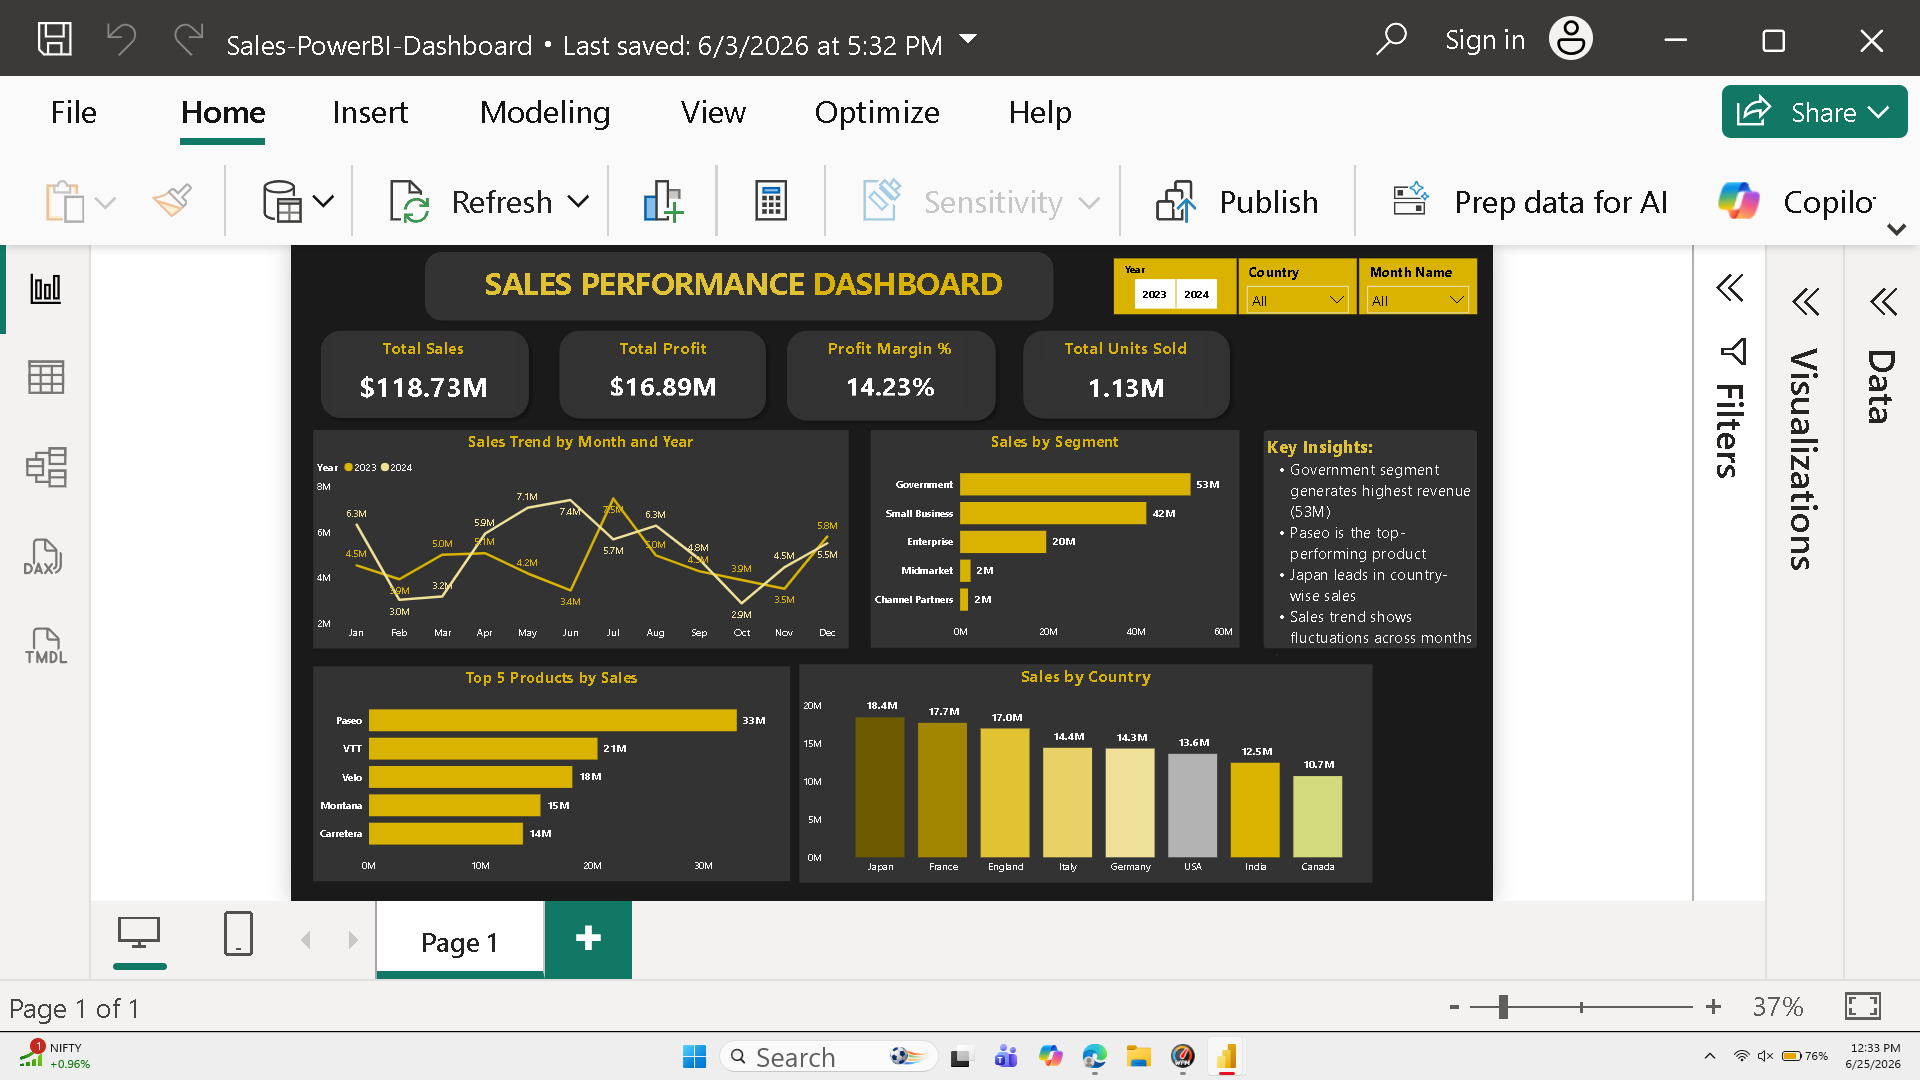

The dashboard page shown, as its layout file describes it:
{"tool":"powerbi","page":{"name":"Page 1","canvas":[1466,800],"ordinal":0},"visuals":[{"type":"shape","box":[595.2,95.6,273,128.3],"z":0},{"type":"shape","box":[27.2,95.2,272,125.1],"z":1000},{"type":"shape","box":[319.4,95.6,270.3,125.6],"z":2000},{"type":"shape","box":[884.6,95.6,270.3,125.6],"z":3000},{"type":"cardVisual","title":"Total Units Sold","fields":{"Data":["Sum(Sales Data xlsx - Sales Data.Units Sold)"]},"box":[922.1,111.5,193.1,92.5],"z":4000},{"type":"cardVisual","title":"Profit Margin %","fields":{"Data":["Sales Data xlsx - Sales Data.Profit Margin %"]},"box":[639.2,111.5,182.2,89.8],"z":5000},{"type":"cardVisual","title":"Total Profit","fields":{"Data":["Sum(Sales Data xlsx - Sales Data.Profit)"]},"box":[356.3,111.5,195.8,89.8],"z":6000},{"type":"lineChart","title":"Sales Trend by Month and Year","fields":{"Y":["Sum(Sales Data xlsx - Sales Data.Sales)"],"Series":["Sales Data xlsx - Sales Data.Year"],"Category":["Sales Data xlsx - Sales Data.Month Name"]},"box":[27.2,225.8,652.8,266.6],"z":7000},{"type":"cardVisual","title":"Total Sales","fields":{"Data":["Sum(Sales Data xlsx - Sales Data.Sales)"]},"box":[51.7,111.5,220.3,92.5],"z":8000},{"type":"barChart","title":"Sales by Segment","fields":{"Category":["Sales Data xlsx - Sales Data.Segment"],"Y":["Sum(Sales Data xlsx - Sales Data.Sales)"]},"box":[706.8,226.3,449.8,265.4],"z":9000},{"type":"barChart","title":"Top 5 Products by Sales","fields":{"Category":["Sales Data xlsx - Sales Data.Product_Name"],"Y":["Sum(Sales Data xlsx - Sales Data.Sales)"]},"box":[27.3,513.3,581.5,262.1],"z":10000},{"type":"columnChart","title":"Sales by Country","fields":{"Category":["Sales Data xlsx - Sales Data.Country"],"Y":["Sum(Sales Data xlsx - Sales Data.Sales)"]},"box":[620.2,511.4,699.1,266.6],"z":11000},{"type":"slicer","title":"Sales by Segment","fields":{"Values":["Sales Data xlsx - Sales Data.Month Name"]},"box":[1302.9,16.3,144.2,68],"z":12000},{"type":"slicer","title":"Sales by Segment","fields":{"Values":["Sales Data xlsx - Sales Data.Year"]},"box":[1003.7,16.3,149.6,68],"z":13000},{"type":"shape","box":[163.2,8.2,767.1,84.3],"z":14000},{"type":"textbox","box":[201.3,16.3,701.8,68],"z":15000},{"type":"slicer","title":"Sales by Segment","fields":{"Values":["Sales Data xlsx - Sales Data.Country"]},"box":[1156,16.3,144.2,68],"z":16000},{"type":"shape","box":[1186,225.8,261.1,266.6],"z":17000},{"type":"textbox","box":[1186,225.8,266.6,383.5],"z":18000}]}

Visuals, with their boxes on the page's 1466x800 design canvas (x1, y1, x2, y2). These are canvas units, not pixel positions in the 1920x1080 screenshot, which may show the page scaled, cropped or inside an application window:
shape: locate(595, 96, 868, 224)
shape: locate(27, 95, 299, 220)
shape: locate(319, 96, 590, 221)
shape: locate(885, 96, 1155, 221)
"Total Units Sold" cardVisual: locate(922, 112, 1115, 204)
"Profit Margin %" cardVisual: locate(639, 112, 821, 201)
"Total Profit" cardVisual: locate(356, 112, 552, 201)
"Sales Trend by Month and Year" lineChart: locate(27, 226, 680, 492)
"Total Sales" cardVisual: locate(52, 112, 272, 204)
"Sales by Segment" barChart: locate(707, 226, 1157, 492)
"Top 5 Products by Sales" barChart: locate(27, 513, 609, 775)
"Sales by Country" columnChart: locate(620, 511, 1319, 778)
"Sales by Segment" slicer: locate(1303, 16, 1447, 84)
"Sales by Segment" slicer: locate(1004, 16, 1153, 84)
shape: locate(163, 8, 930, 92)
textbox: locate(201, 16, 903, 84)
"Sales by Segment" slicer: locate(1156, 16, 1300, 84)
shape: locate(1186, 226, 1447, 492)
textbox: locate(1186, 226, 1453, 609)
